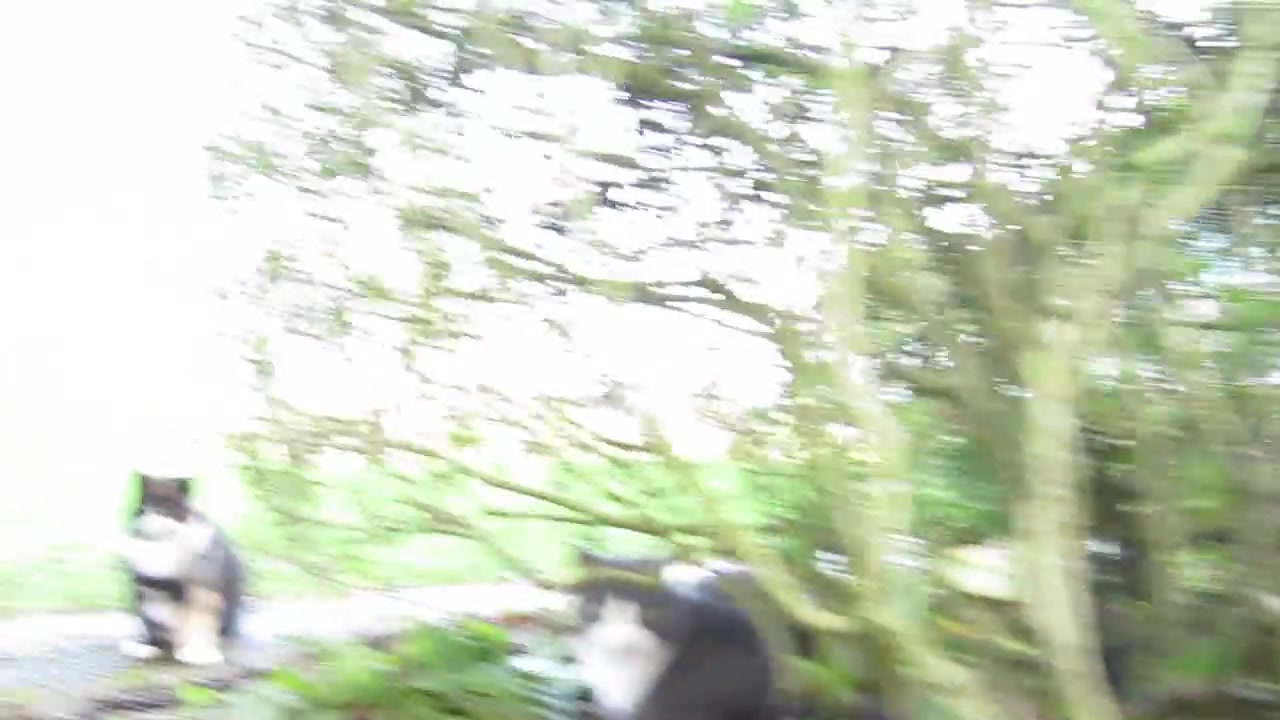cat: (120, 471, 240, 669)
